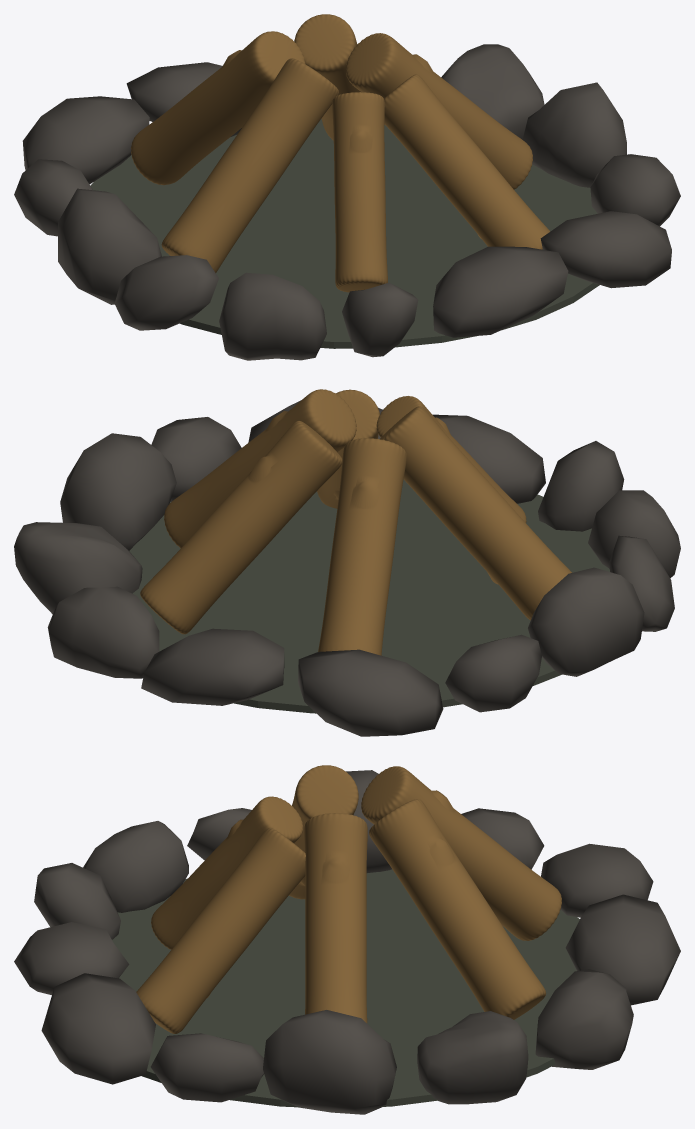
File: Koster.fbx
The picture shows the model from 3 angles, top to bottom: view 1: azimuth 30°, elevation 25°; view 2: azimuth 150°, elevation 25°; view 3: azimuth 270°, elevation 25°; orthographic projection. The views are drawn at different scales.
Parts seen in each view (by area): view 1: Куб, Цилиндр, Окружность; view 2: Куб, Цилиндр, Окружность; view 3: Куб, Цилиндр, Окружность.
Boxes of the visible parts, x1=… form: Куб: x1=14, y1=44, x2=680, y2=360; Цилиндр: x1=131, y1=14, x2=549, y2=292; Окружность: x1=90, y1=119, x2=599, y2=348; Куб: x1=14, y1=400, x2=680, y2=736; Цилиндр: x1=140, y1=389, x2=571, y2=655; Окружность: x1=129, y1=479, x2=609, y2=713; Куб: x1=14, y1=770, x2=680, y2=1114; Цилиндр: x1=136, y1=765, x2=561, y2=1033; Окружность: x1=112, y1=869, x2=579, y2=1107.
Size of the model in its own units: 228 by 82.22 by 233.
